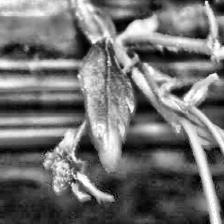Gray Mold: (42, 129, 114, 201)
